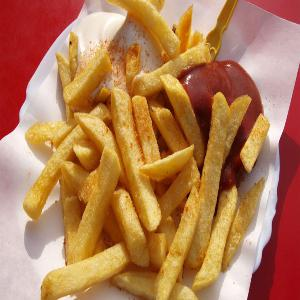fries: (30, 24, 283, 291)
